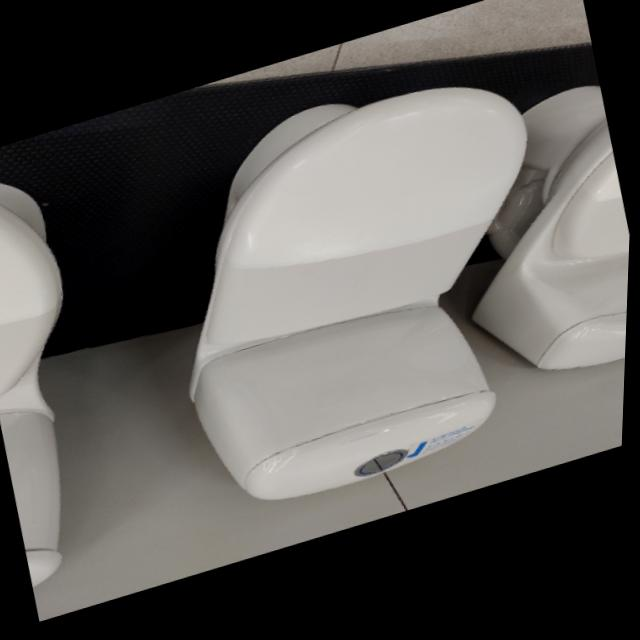toilet: (131, 50, 598, 534), (426, 88, 636, 412), (0, 151, 133, 593)
